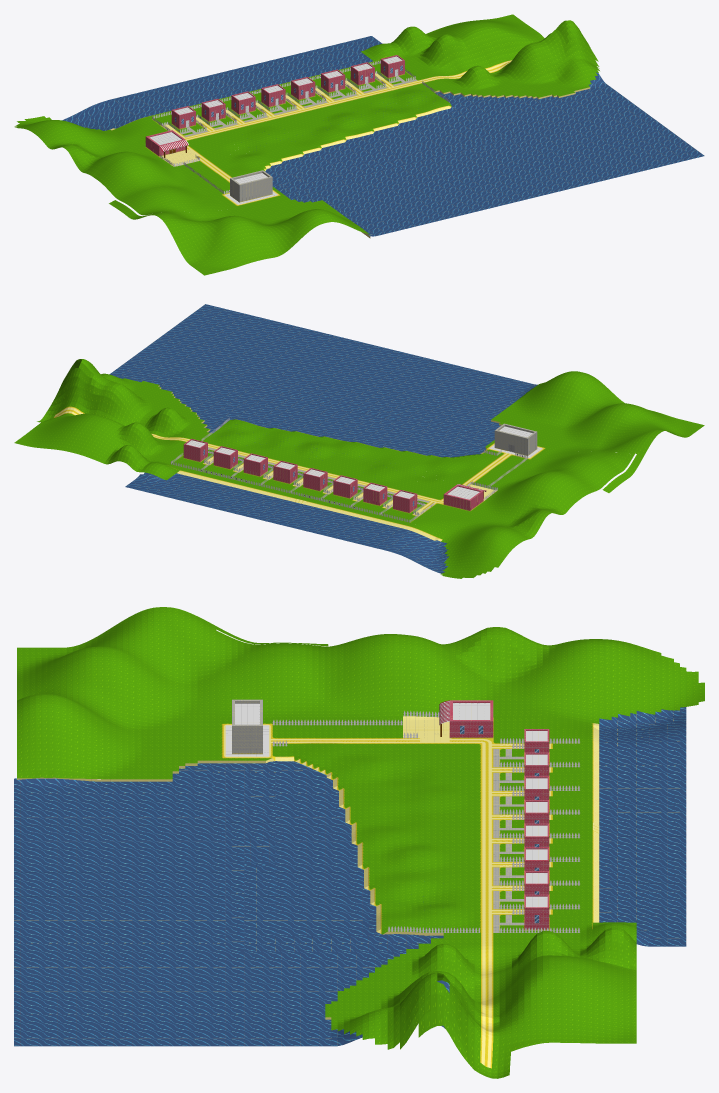
File: house.fbx
The picture shows the model from 3 angles, top to bottom: view 1: azimuth 30°, elevation 25°; view 2: azimuth 150°, elevation 25°; view 3: azimuth 270°, elevation 25°; orthographic projection. The views are drawn at different scales.
Parts seen in each view (by area): view 1: Cube; view 2: Cube; view 3: Cube.
Part boxes in pixels (x1,y1,x2,y2): Cube: [14, 14, 704, 275]; Cube: [14, 304, 704, 578]; Cube: [14, 607, 704, 1078].
Bounding box in the file's own units: 31133 × 3109 × 22200.
